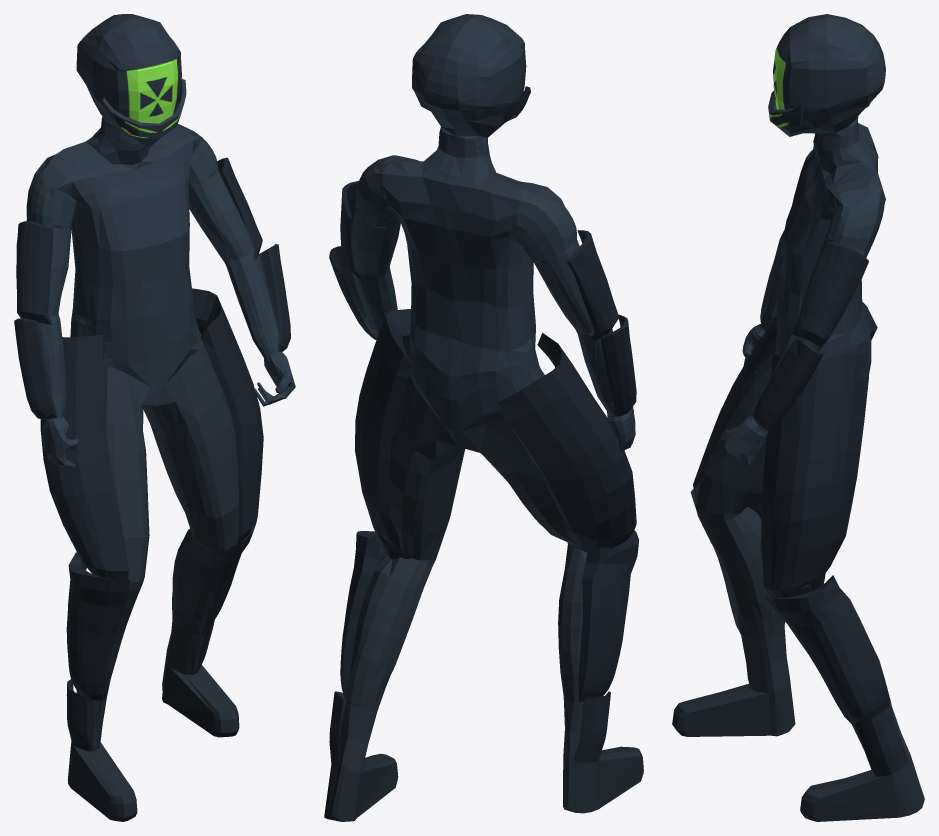
File: Bastion_Stun_Recover_000017.obj
3 views of the same model, side by side, from view 1: azimuth 30°, elevation 25°; view 2: azimuth 150°, elevation 25°; view 3: azimuth 270°, elevation 25° (orthographic). The views are drawn at different scales.
Visible parts, largest first — view 1: Cube.002; view 2: Cube.002; view 3: Cube.002.
Boxes of the visible parts, x1=… form: Cube.002: x1=14, y1=14, x2=295, y2=821; Cube.002: x1=324, y1=14, x2=643, y2=821; Cube.002: x1=672, y1=14, x2=924, y2=821.
Bounding box in the file's own units: 1.44 × 3.77 × 1.14.
